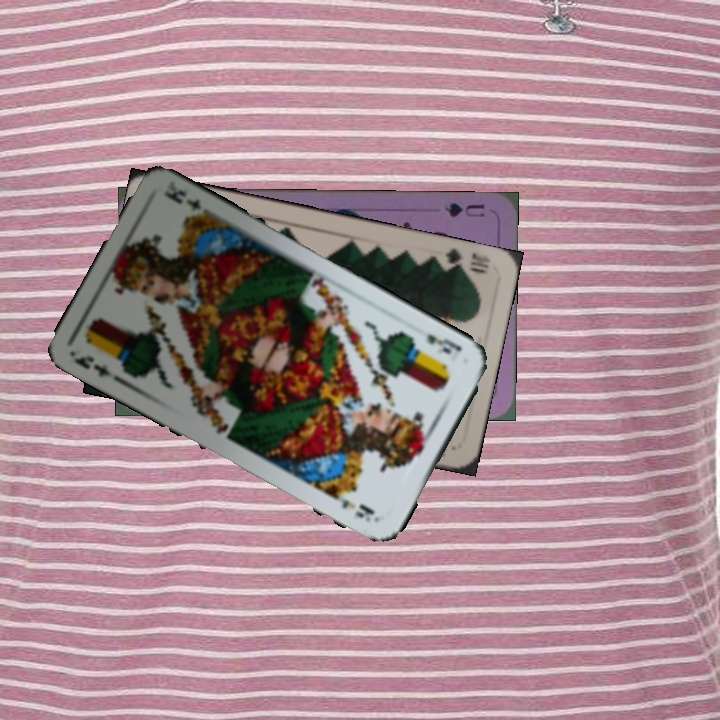EK: (70, 351, 125, 386), (422, 330, 465, 357)
G10: (433, 245, 493, 277)
GU: (441, 198, 487, 220)
